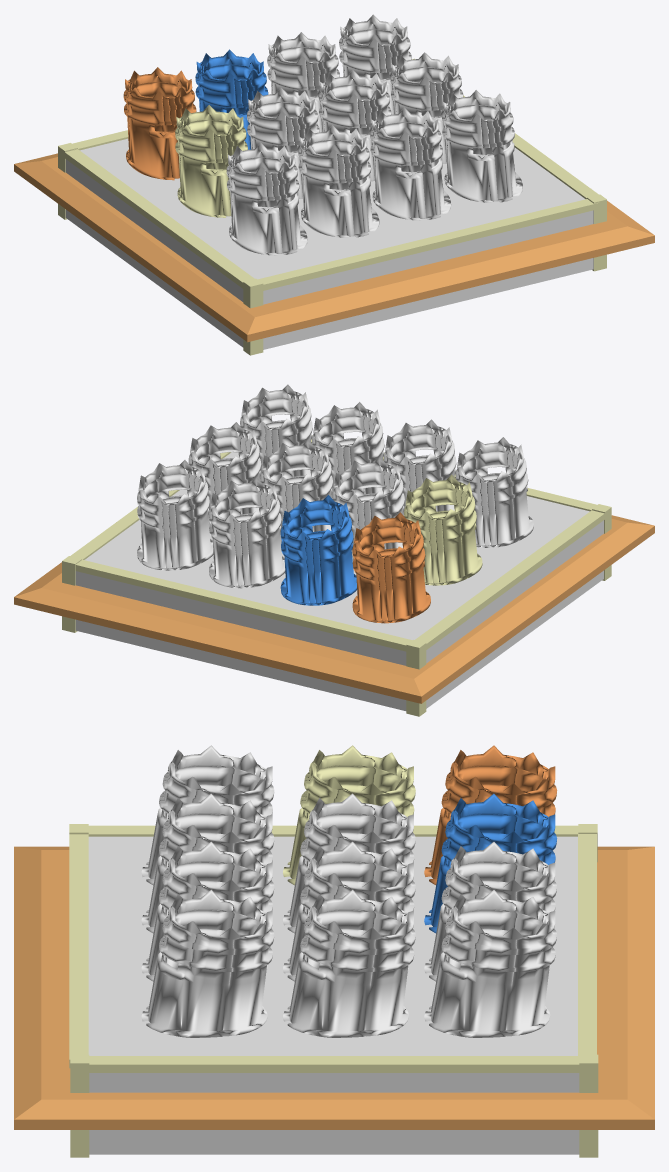
File: headquarters.glb
The picture shows the model from 3 angles, top to bottom: view 1: azimuth 30°, elevation 25°; view 2: azimuth 150°, elevation 25°; view 3: azimuth 270°, elevation 25°; orthographic projection. The views are drawn at different scales.
Parts seen in each view (by area): view 1: Cube, Cube.005, Cube.004, Circle.011, Circle.012, Circle.009, Circle.010, Circle.004, Circle.005, Cube.012, Cube.002, Circle.008 (+9 smaller); view 2: Cube, Cube.005, Cube.004, Circle.005, Circle.003, Circle.002, Circle.001, Circle.004, Circle.009, Cube.013, Cube.002, Circle.006 (+10 smaller); view 3: Cube, Cube.005, Cube.002, Circle.003, Circle.008, Circle.012, Cube.011, Circle.007, Circle.002, Circle.011, Circle.001, Circle.005 (+9 smaller).
Boxes of the visible parts, bbox=[...] form: Cube: bbox=[14, 153, 654, 342]; Cube.005: bbox=[80, 138, 585, 279]; Cube.004: bbox=[263, 210, 593, 349]; Circle.011: bbox=[370, 107, 451, 220]; Circle.012: bbox=[442, 90, 522, 202]; Circle.009: bbox=[226, 142, 307, 255]; Circle.010: bbox=[298, 125, 379, 237]; Circle.004: bbox=[175, 105, 247, 217]; Circle.005: bbox=[123, 67, 196, 180]; Cube.012: bbox=[258, 199, 599, 290]; Cube.002: bbox=[65, 159, 243, 347]; Circle.008: bbox=[390, 52, 463, 163]; Cube: bbox=[14, 515, 654, 703]; Cube.005: bbox=[84, 452, 589, 639]; Cube.004: bbox=[75, 571, 406, 710]; Circle.005: bbox=[352, 512, 430, 623]; Circle.003: bbox=[137, 460, 213, 570]; Circle.002: bbox=[209, 477, 285, 588]; Circle.001: bbox=[280, 495, 357, 605]; Circle.004: bbox=[404, 474, 482, 585]; Circle.009: bbox=[455, 437, 533, 547]; Cube.013: bbox=[75, 559, 412, 651]; Cube.002: bbox=[426, 520, 603, 708]; Circle.006: bbox=[332, 457, 404, 561]; Cube: bbox=[14, 846, 654, 1129]; Cube.005: bbox=[88, 836, 577, 1055]; Cube.002: bbox=[89, 1073, 579, 1154]; Circle.003: bbox=[424, 890, 556, 1037]; Circle.008: bbox=[283, 889, 415, 1037]; Circle.012: bbox=[141, 889, 274, 1037]; Cube.011: bbox=[83, 1056, 588, 1072]; Circle.007: bbox=[283, 841, 415, 981]; Circle.002: bbox=[424, 842, 556, 981]; Circle.011: bbox=[141, 841, 274, 981]; Circle.001: bbox=[424, 793, 557, 933]; Circle.005: bbox=[424, 745, 557, 884].
Bounding box in the file's own units: 3.63 × 1.27 × 3.61.
